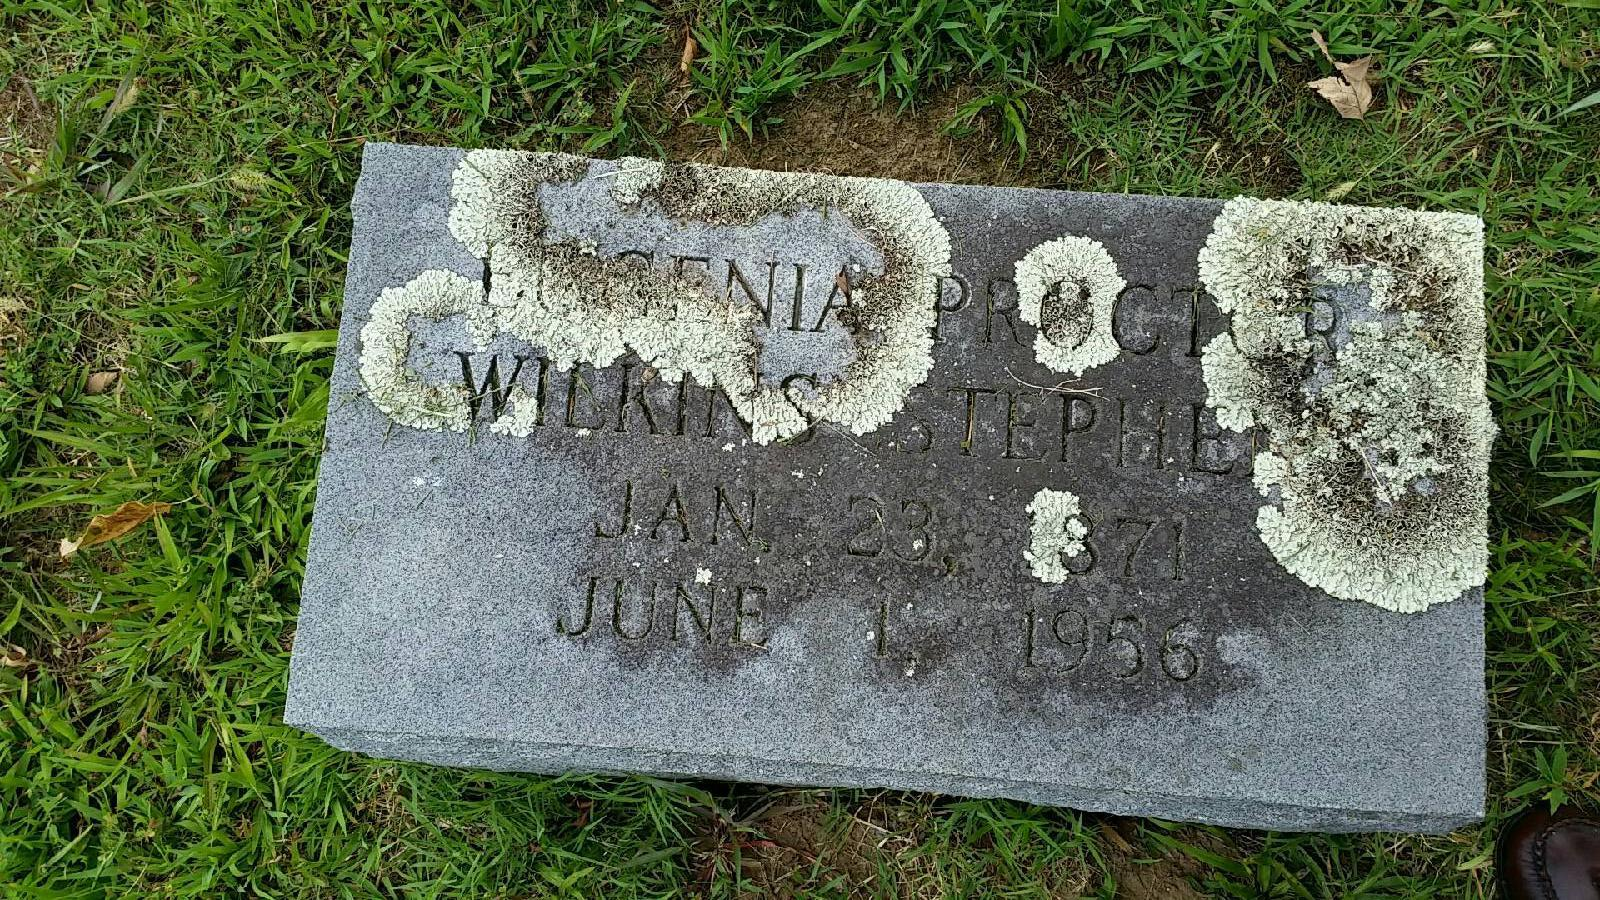flat: (233, 95, 1516, 852)
